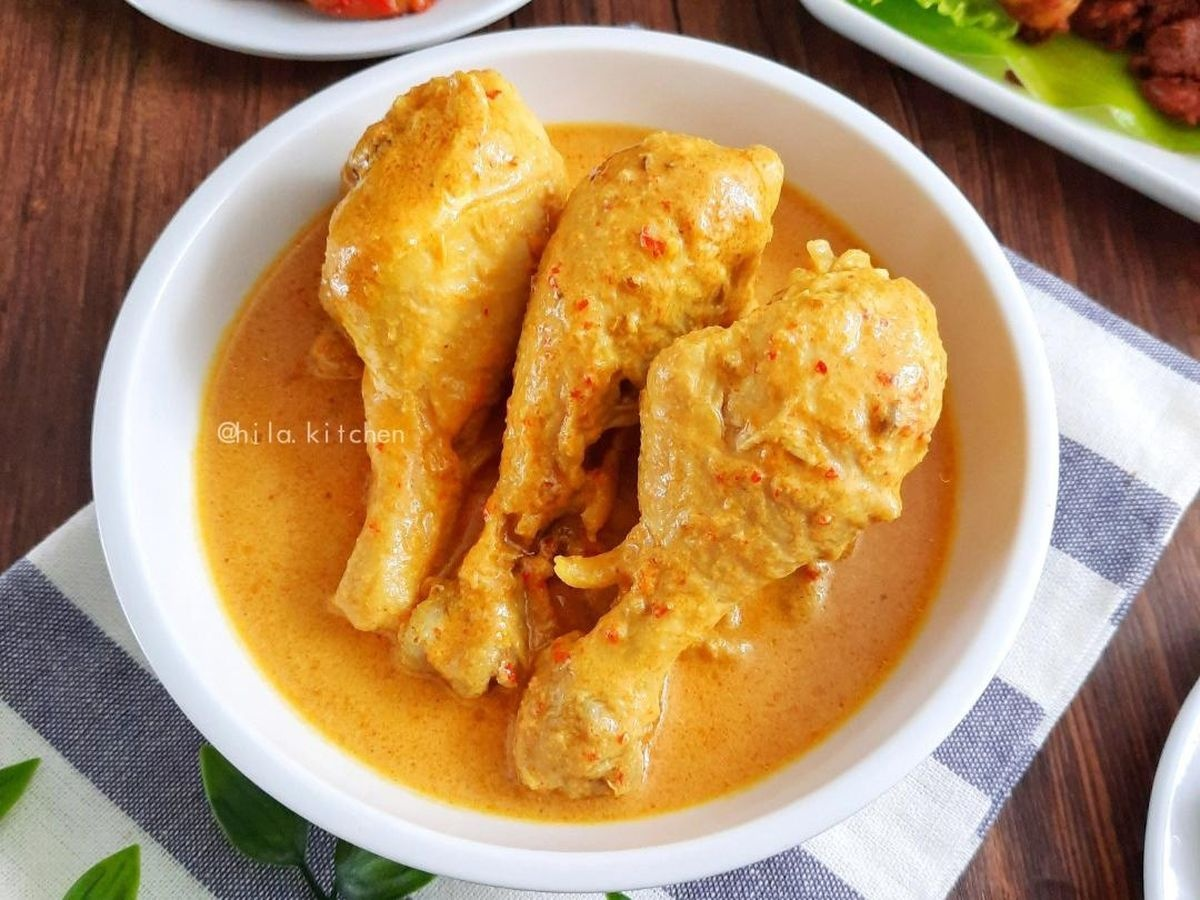gulai_ayam: (206, 70, 1009, 777)
